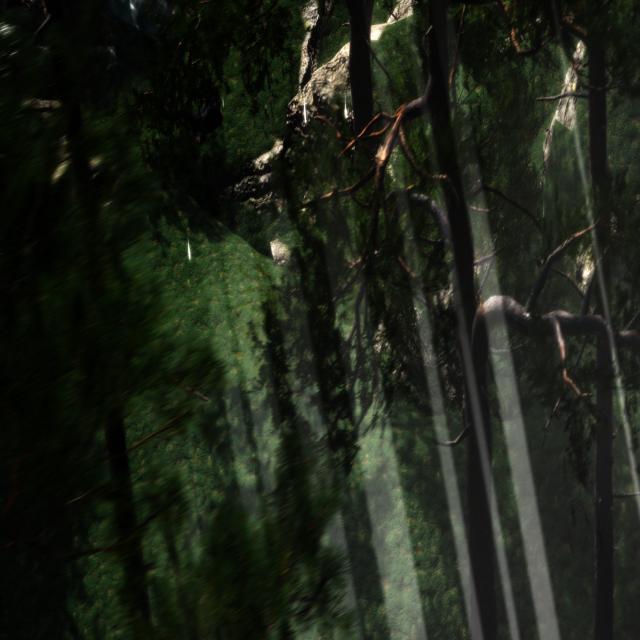Human: (186, 79, 227, 142)
